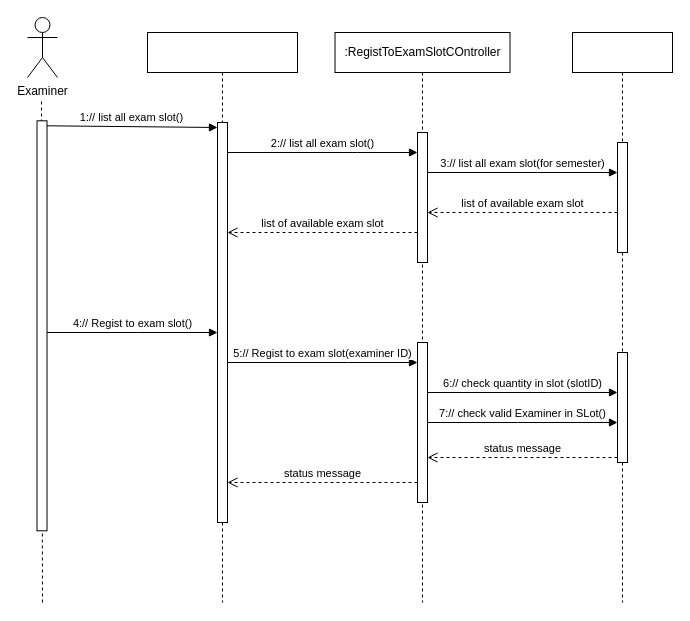
Image size: 690x621. Some labels were removed from this diagram. Each missing label, with the box of its shape:
:DB: (572, 32, 672, 602)
:RegistToExamSlotForm: (146, 32, 298, 602)
